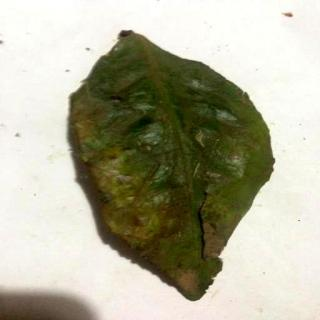Red Leaf Spot: (68, 33, 276, 298)
